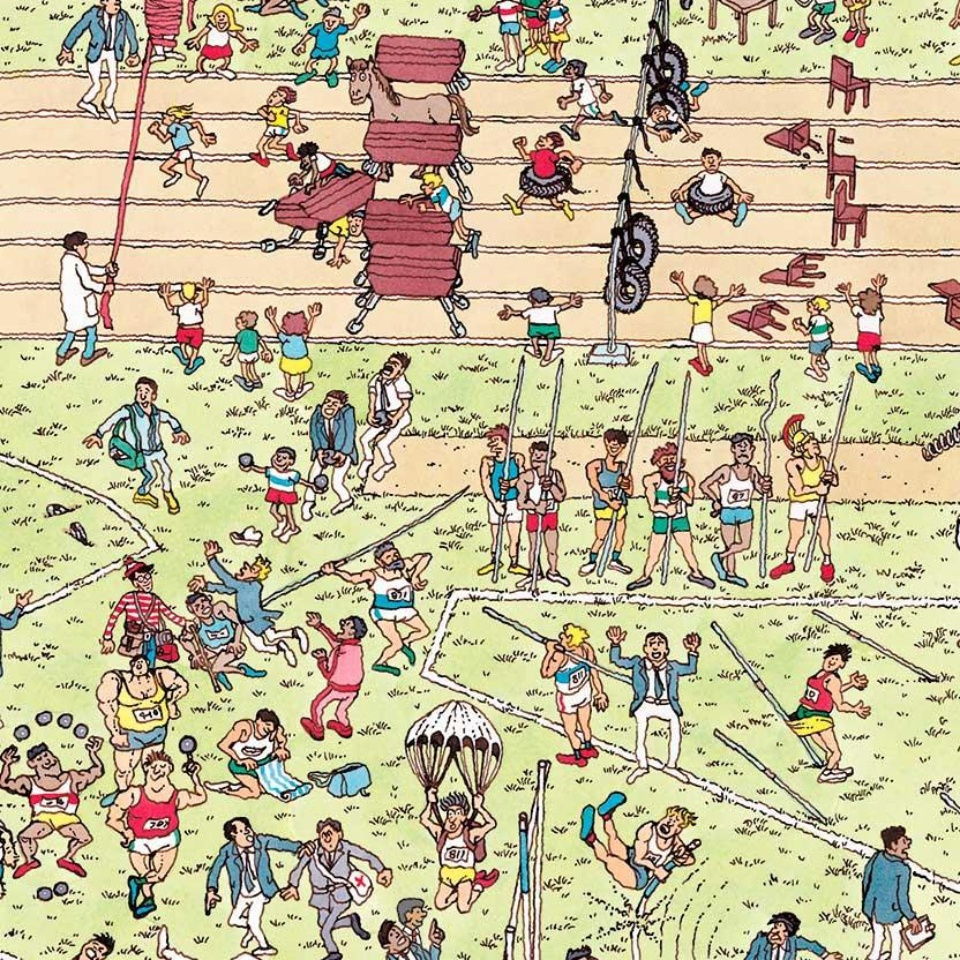waldo: (101, 555, 193, 662)
